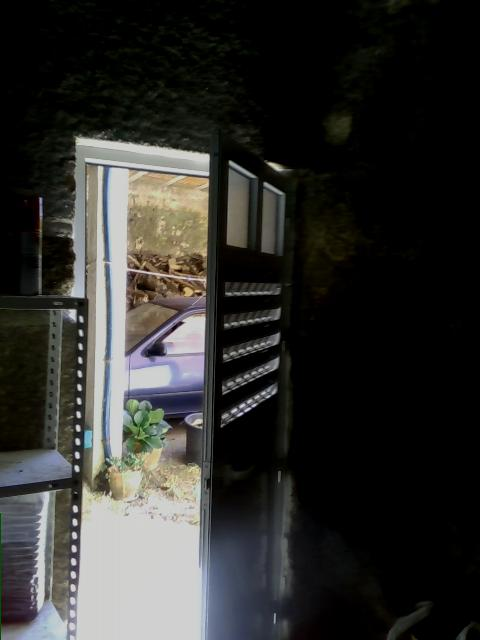semi_door: (70, 123, 309, 639)
